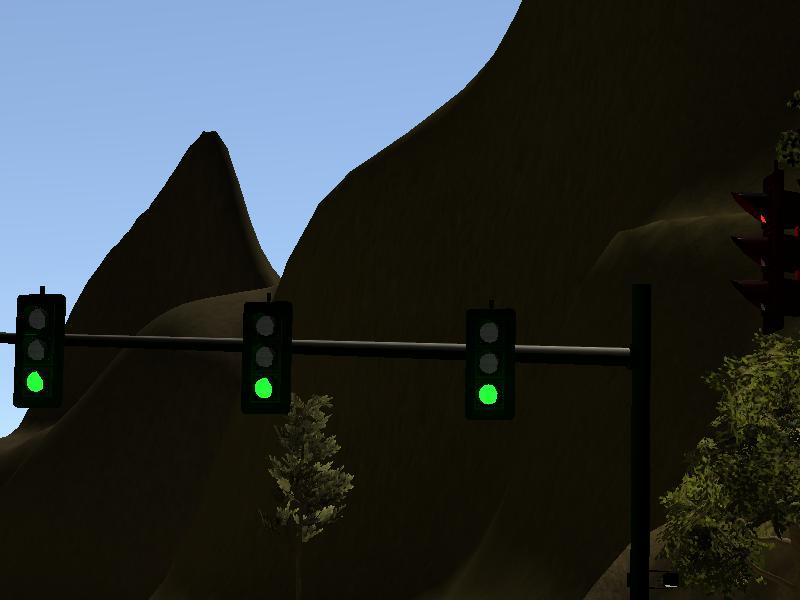Green: (15, 294, 68, 408), (464, 307, 517, 421), (240, 301, 293, 415)
